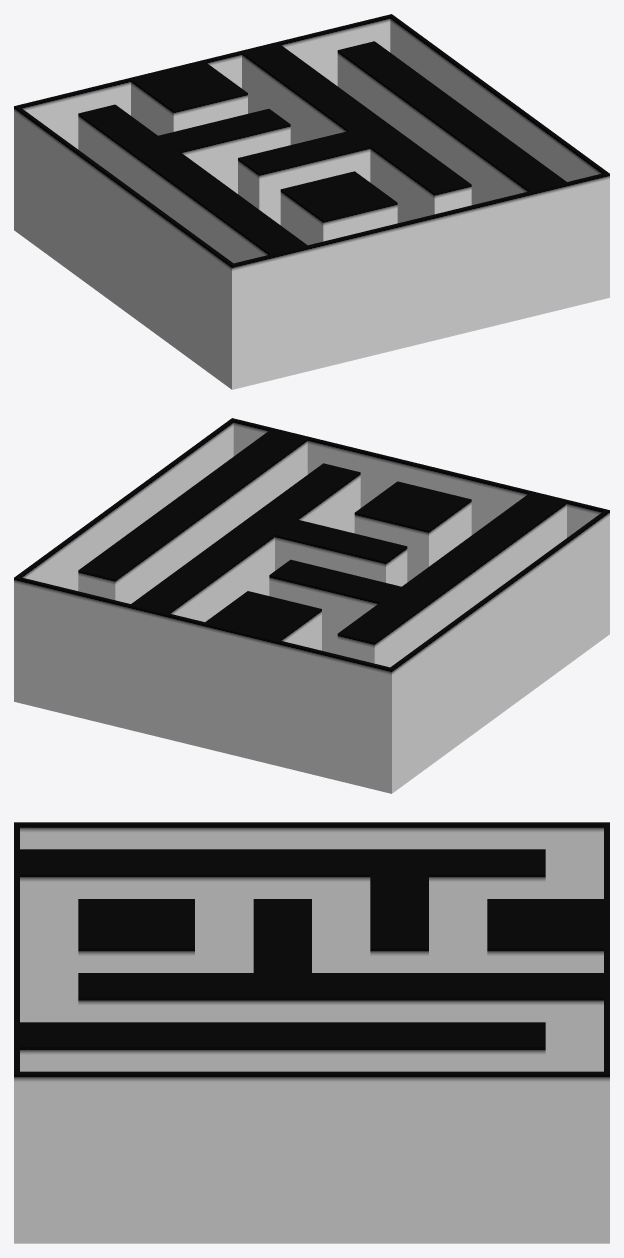
The model's file is Tutorial01.fbx.
3 renders of one model, top to bottom at view 1: azimuth 30°, elevation 25°; view 2: azimuth 150°, elevation 25°; view 3: azimuth 270°, elevation 25°, orthographic. The views are drawn at different scales.
Parts seen in each view (by area): view 1: Union_1; view 2: Union_1; view 3: Union_1.
Boxes of the visible parts, x1,y1,x2,y2 form: Union_1: [14, 14, 609, 389]; Union_1: [14, 418, 609, 793]; Union_1: [14, 822, 609, 1243].
Bounding box in the file's own units: 102 × 32 × 102.
